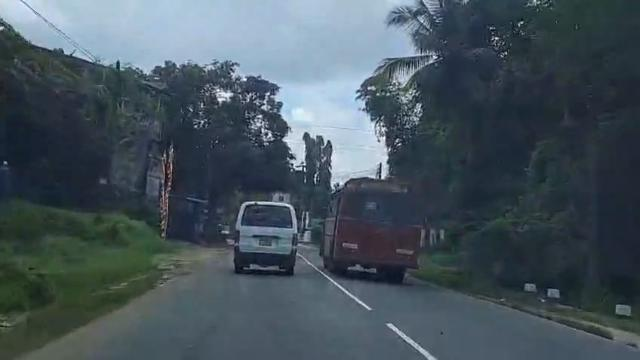illegal overtaking: (319, 173, 428, 293)
